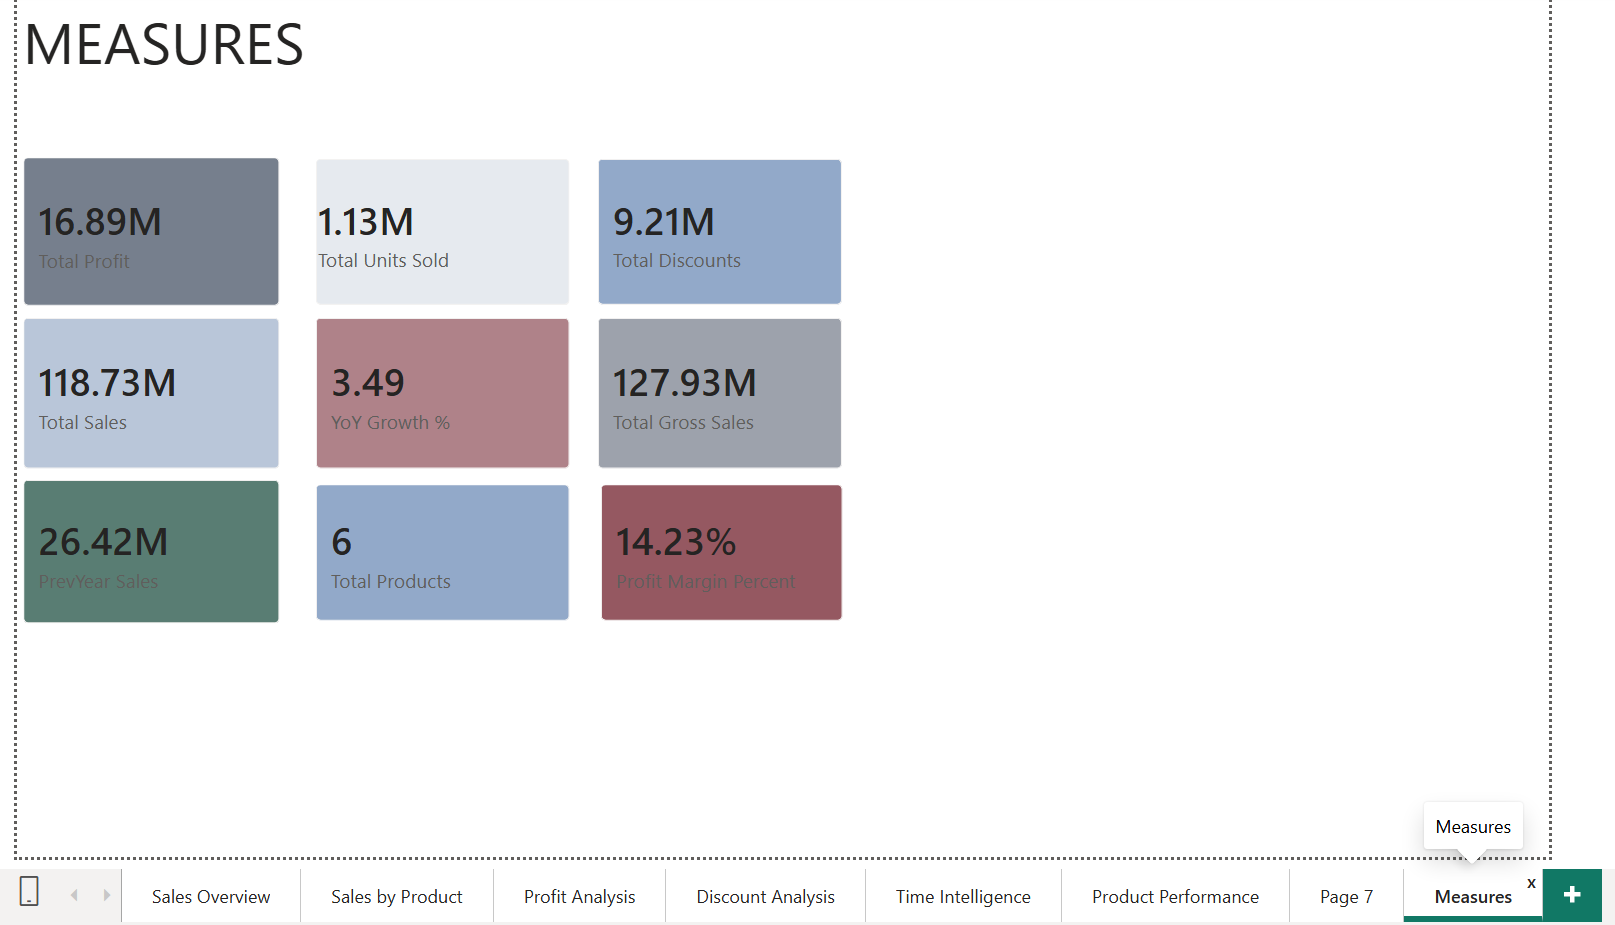

What the dashboard file says about the page in this screenshot:
{"tool":"powerbi","page":{"name":"Measures","canvas":[1280,720],"ordinal":7},"visuals":[{"type":"cardVisual","fields":{"Data":["Sheet1.PrevYear Sales"]},"box":[0,400,224,130],"z":0},{"type":"cardVisual","fields":{"Data":["Sheet1.Profit Margin Percent"]},"box":[482,404,212,124],"z":1000},{"type":"cardVisual","fields":{"Data":["Sheet1.Total Discounts"]},"box":[480,132,214,132],"z":2000},{"type":"cardVisual","fields":{"Data":["Sheet1.Total Gross Sales"]},"box":[480,264,214,136],"z":3000},{"type":"cardVisual","fields":{"Data":["Sheet1.Total Products"]},"box":[244,404,222,124],"z":4000},{"type":"cardVisual","fields":{"Data":["Sheet1.Total Profit"]},"box":[0,130,224,134],"z":5000},{"type":"cardVisual","fields":{"Data":["Sheet1.Total Sales"]},"box":[0,264,224,136],"z":6000},{"type":"cardVisual","fields":{"Data":["Sheet1.Total Units Sold"]},"box":[244,132,222,132],"z":7000},{"type":"cardVisual","fields":{"Data":["Sheet1.YoY Growth %"]},"box":[244,264,222,136],"z":8000},{"type":"textbox","box":[0,0,280,96],"z":9000}]}

Visuals, with their boxes on the page's 1280x720 design canvas (x1, y1, x2, y2). These are canvas units, not pixel positions in the 1615x925 screenshot, which may show the page scaled, cropped or inside an application window:
cardVisual - Sheet1.PrevYear Sales: (x1=0, y1=400, x2=224, y2=530)
cardVisual - Sheet1.Profit Margin Percent: (x1=482, y1=404, x2=694, y2=528)
cardVisual - Sheet1.Total Discounts: (x1=480, y1=132, x2=694, y2=264)
cardVisual - Sheet1.Total Gross Sales: (x1=480, y1=264, x2=694, y2=400)
cardVisual - Sheet1.Total Products: (x1=244, y1=404, x2=466, y2=528)
cardVisual - Sheet1.Total Profit: (x1=0, y1=130, x2=224, y2=264)
cardVisual - Sheet1.Total Sales: (x1=0, y1=264, x2=224, y2=400)
cardVisual - Sheet1.Total Units Sold: (x1=244, y1=132, x2=466, y2=264)
cardVisual - Sheet1.YoY Growth %: (x1=244, y1=264, x2=466, y2=400)
textbox: (x1=0, y1=0, x2=280, y2=96)
